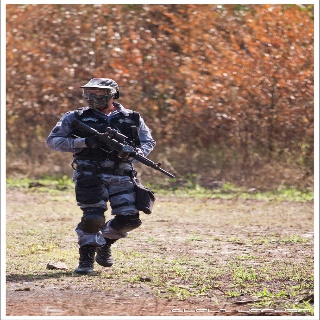rifle: (69, 116, 176, 179)
